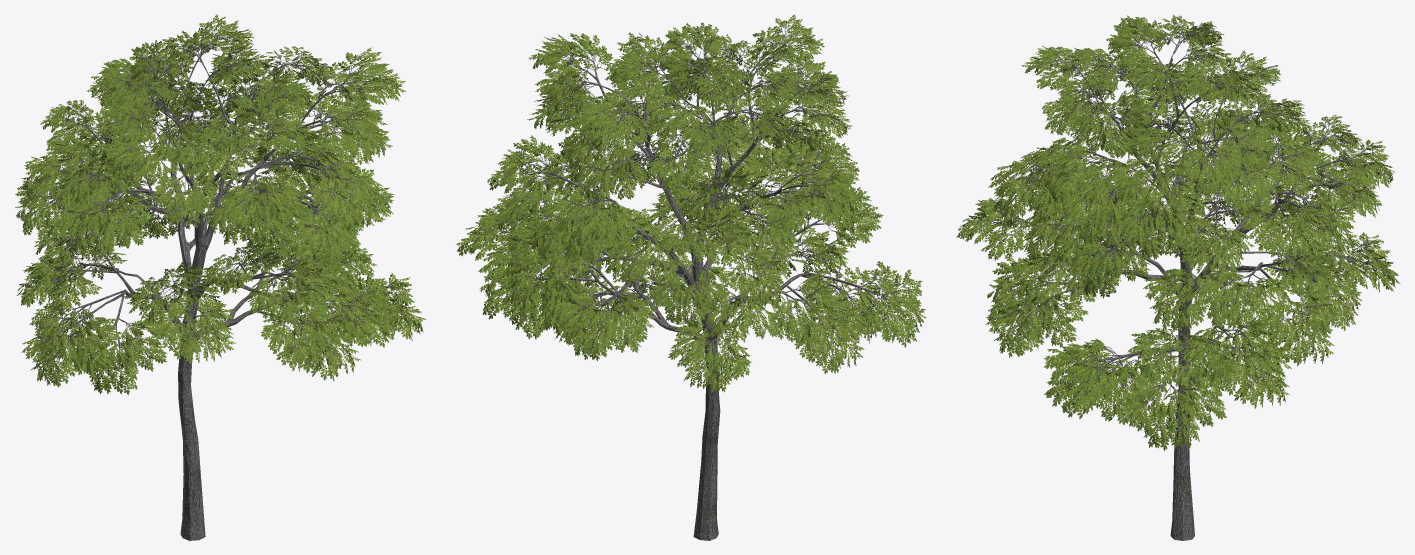
The model's file is JuglansRegia.glb.
The picture shows the model from 3 angles, left to right: view 1: azimuth 30°, elevation 25°; view 2: azimuth 150°, elevation 25°; view 3: azimuth 270°, elevation 25°; orthographic projection.
Parts seen in each view (by area): view 1: Bark; view 2: Bark; view 3: Bark.
Part boxes in pixels (left/top/right/bottom): Bark: left=15, top=14, right=426, bottom=540; Bark: left=456, top=14, right=926, bottom=540; Bark: left=956, top=14, right=1400, bottom=540.
Bounding box in the file's own units: 5.6 × 6.46 × 5.25.
2 materials, 2 textured.
